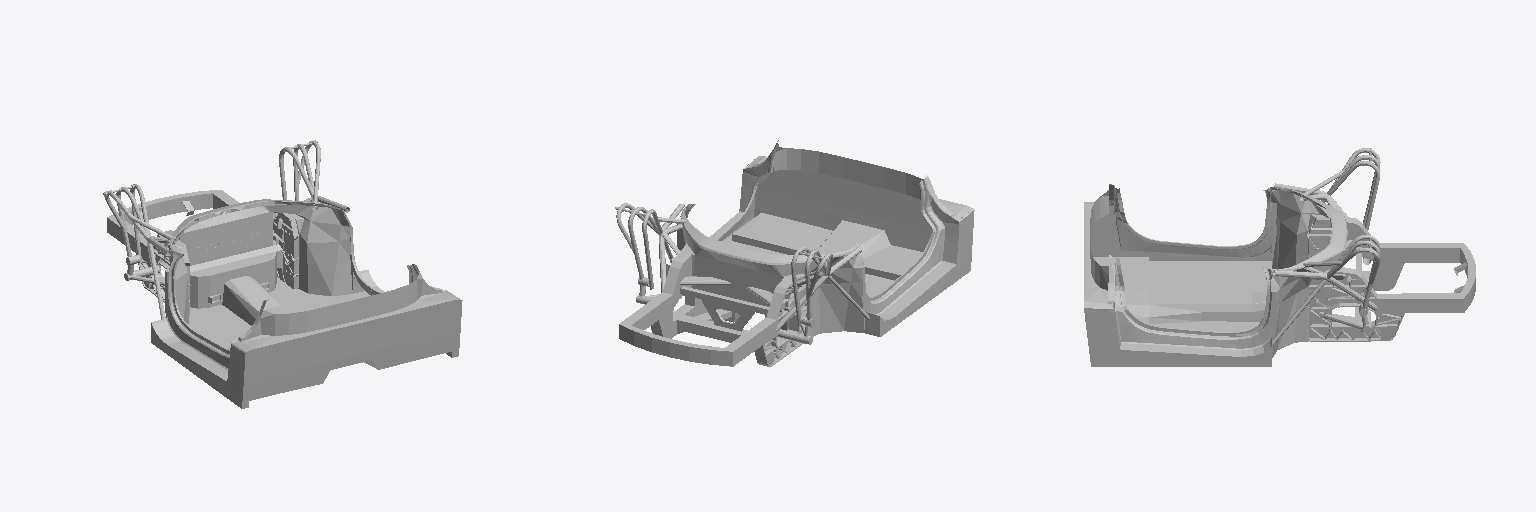
The picture shows the model from 3 angles: view 1: azimuth 30°, elevation 25°; view 2: azimuth 150°, elevation 25°; view 3: azimuth 270°, elevation 25°; orthographic projection.
Parts seen in each view (by area): view 1: scintilla_body_offroad; view 2: scintilla_body_offroad; view 3: scintilla_body_offroad.
Part boxes in pixels (bbox=[...]): scintilla_body_offroad: bbox=[103, 140, 462, 408]; scintilla_body_offroad: bbox=[615, 140, 974, 366]; scintilla_body_offroad: bbox=[1084, 148, 1475, 366].
Size of the model in its own units: 1.8 by 0.9189 by 2.82.